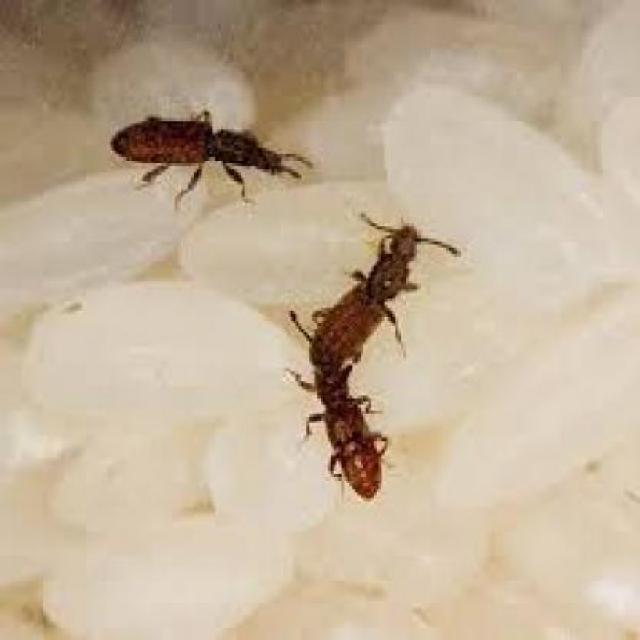rice-bug: (305, 223, 424, 498), (99, 109, 289, 173)
